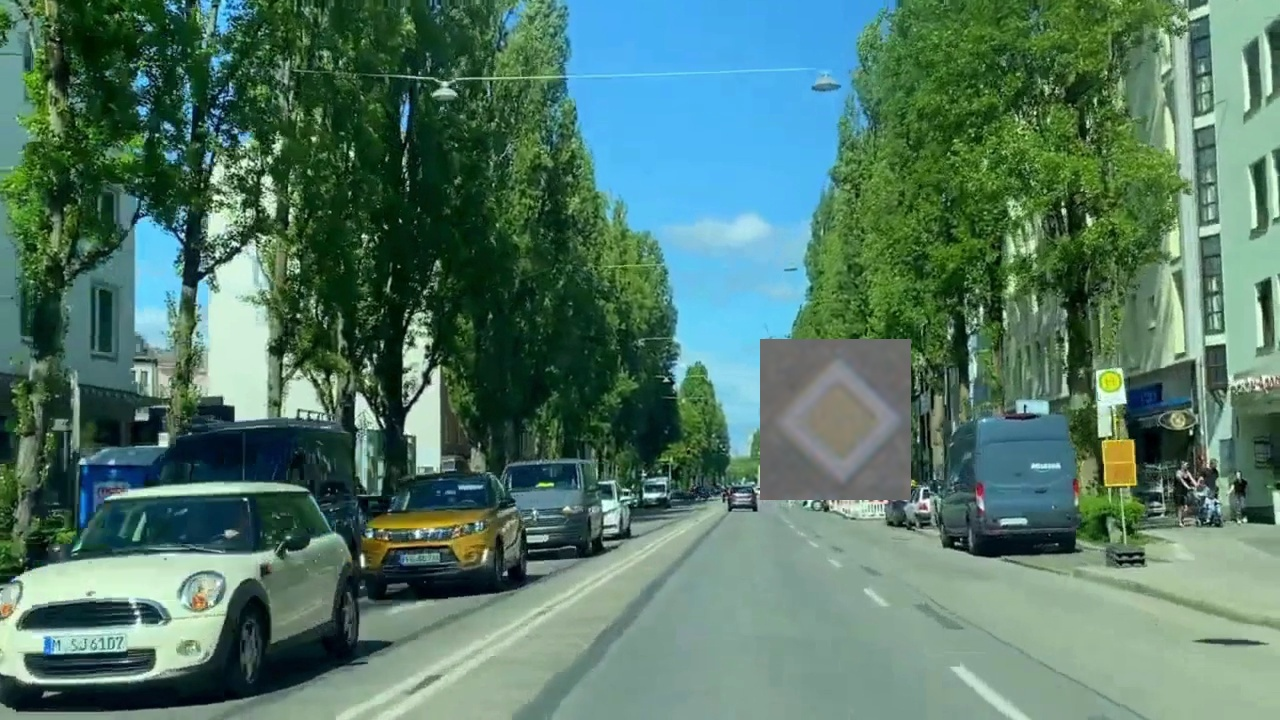Priority road: (760, 339, 911, 500)
